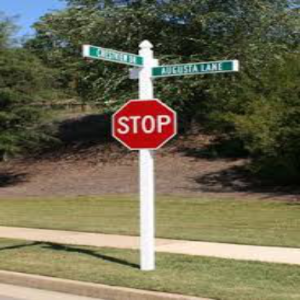STOP_SIGN: (111, 98, 176, 149)
